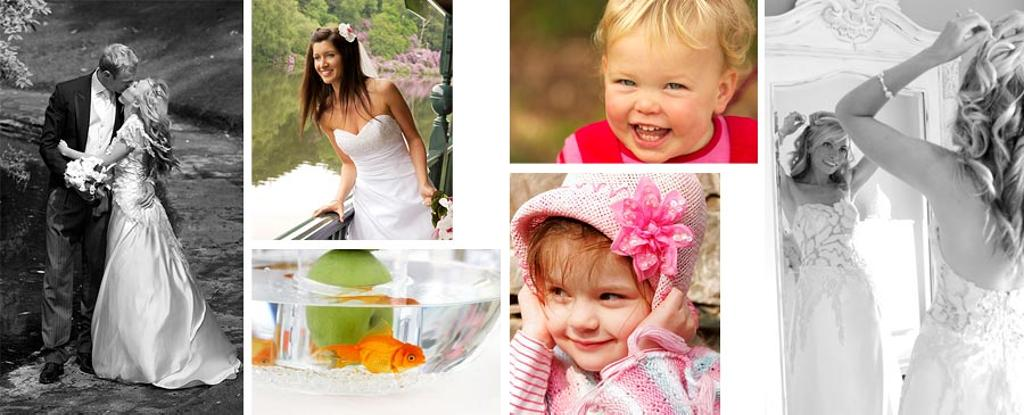face: (540, 229, 655, 373), (604, 28, 712, 162), (814, 130, 848, 174), (313, 41, 341, 83), (112, 61, 135, 92), (122, 79, 148, 100)
